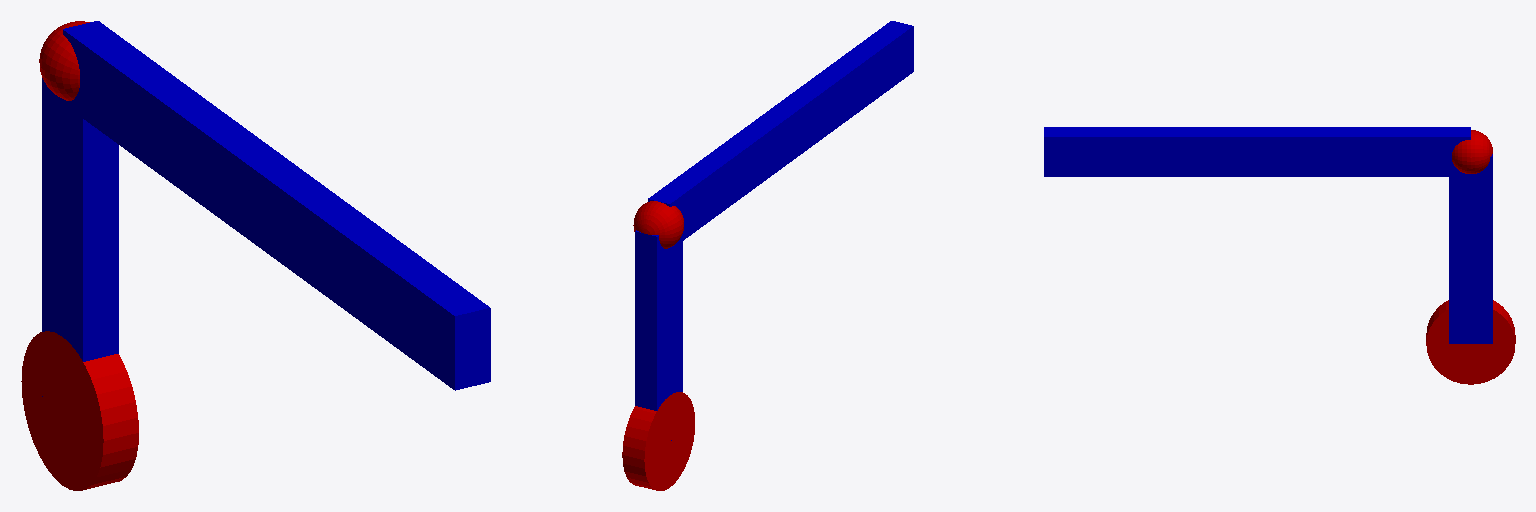
The robot description file, URDF, robot "TwoLinkStruct1228343514":
<?xml version="1.0"?>
<robot  name="TwoLinkStruct1228343514" >
 <material  name="blue" >
  <color  rgba="0 0 0.8 1.0" />
 </material>
 <material  name="red" >
  <color  rgba="0.8 0 0 1.0" />
 </material>
 <link  name="base_link" >
  <visual >
   <origin  rpy="0 1.5707 0"  xyz="0 0 0" />
   <material  name="red" />
   <geometry >
    <cylinder  length="0.05"  radius="0.1" />
   </geometry>
  </visual>
 </link>
 <joint  type="revolute"  name="joint1" >
  <parent  link="base_link" />
  <child  link="link1" />
  <origin  xyz="0 0 0"  rpy="0 0 0" />
  <axis  xyz="1 0 0" />
 </joint>
 <link  name="link1" >
  <inertial >
   <origin  rpy="0 0 0"  xyz="0 0 0.2316301788185809" />
   <mass  value="1.2313152115497141" />
   <inertia  ixy="0.0"  iyy="0.000513048004812381"  izz="0.022277586775591544"  ixz="0.0"  ixx="0.022277586775591544"  iyz="0.0" />
  </inertial>
  <visual >
   <origin  rpy="0 0 0"  xyz="0 0 0.2316301788185809" />
   <material  name="blue" />
   <geometry >
    <box  size="0.05 0.1 0.4632603576371618" />
   </geometry>
  </visual>
 </link>
 <joint  type="fixed"  name="joint-joint-1" >
  <parent  link="link1" />
  <child  link="joint-link-1" />
  <origin  xyz="0 0 0.4632603576371618"  rpy="1.5707 0 0" />
  <axis  xyz="1 0 0" />
 </joint>
 <link  name="joint-link-1" >
  <inertial >
   <origin  rpy="0 0 0"  xyz="0 0 0" />
   <mass  value="3.596272568144898" />
   <inertia  ixy="0"  iyy="0"  izz="0"  ixz="0"  ixx="0"  iyz="0" />
  </inertial>
  <visual >
   <origin  rpy="0 0 0"  xyz="0 0 0" />
   <material  name="red" />
   <geometry >
    <sphere  radius="0.05" />
   </geometry>
  </visual>
 </link>
 <joint  type="revolute"  name="joint2" >
  <parent  link="link1" />
  <child  link="link2" />
  <origin  xyz="0 0 0.4632603576371618"  rpy="1.5707 0 0" />
  <axis  xyz="1 0 0" />
 </joint>
 <link  name="link2" >
  <inertial >
   <origin  rpy="0 0 0"  xyz="0 0 0.4777373607623729" />
   <mass  value="3.6532023910776945" />
   <inertia  ixy="0.0"  iyy="0.000513048004812381"  izz="0.09393210642804707"  ixz="0.0"  ixx="0.09393210642804707"  iyz="0.0" />
  </inertial>
  <visual >
   <origin  rpy="0 0 0"  xyz="0 0 0.4777373607623729" />
   <material  name="blue" />
   <geometry >
    <box  size="0.05 0.1 0.9554747215247458" />
   </geometry>
  </visual>
 </link>
 <joint  type="fixed"  name="eef_joint" >
  <parent  link="link2" />
  <child  link="eef" />
  <origin  xyz="0 0 0.9554747215247458"  rpy="0 0 0" />
 </joint>
 <link  name="eef" >
  <inertial >
   <origin  rpy="0 0 0"  xyz="0 0 0" />
   <mass  value="1" />
   <inertia  ixy="0"  iyy="0"  izz="0"  ixz="0"  ixx="0"  iyz="0" />
  </inertial>
 </link>
 <transmission  name="motor1" >
  <type  xmltext="SimpleTransmission" >
   SimpleTransmission
  </type>
  <actuator  name="motor1" >
   <mechanicalreduction  xmltext="1" >
    1
   </mechanicalreduction>
  </actuator>
  <joint  name="joint1" />
 </transmission>
 <transmission  name="motor2" >
  <type  xmltext="SimpleTransmission" >
   SimpleTransmission
  </type>
  <actuator  name="motor2" >
   <mechanicalreduction  xmltext="1" >
    1
   </mechanicalreduction>
  </actuator>
  <joint  name="joint2" />
 </transmission>
</robot>

<!-- {'carti': array([-0.1 ,  0.14,  0.85]), 'cartd': array([-0.1 ,  0.32,  1.29]), 'tau_mu': 0.5474566876291624, 'b0': 0.6803887686515551, 'Km': 3.1860141840584397, 'k_velocity': 12.190436926419437, 'tau_max_m': 3.509908752581405, 'omega_max_m': 1240.7945720715154, 'gear_ratio': 14.443359045424328, 'Kp': 34.390938245731576, 'Kd': 6.816037782232007, 'm_m': 3.596272568144898, 'l1': 0.4632603576371618, 'l2': 0.9554747215247458, 'k1': 29178.154568498554, 'k2': 167612746.53504074, 'k3': 366448612.09683543}-->

--- Render facts (derived) ---
3 views of the same robot in one strip: view 1: azimuth 30°, elevation 25°; view 2: azimuth 150°, elevation 25°; view 3: azimuth 270°, elevation 25° (orthographic).
Robot: TwoLinkStruct1228343514 — 5 links, 4 joints (2 revolute, 2 fixed); root link base_link; default pose: every joint at zero.
Links seen in each view (by area): view 1: link2, link1, base_link, joint-link-1; view 2: link2, link1, base_link, joint-link-1; view 3: link2, link1, base_link, joint-link-1.
Boxes of the visible links, box(x1,y1,x2,y2) form: link2: box(63, 21, 490, 390); link1: box(42, 78, 118, 396); base_link: box(21, 331, 138, 490); joint-link-1: box(39, 21, 89, 100); link2: box(648, 21, 913, 247); link1: box(635, 230, 682, 440); base_link: box(622, 392, 694, 490); joint-link-1: box(633, 201, 683, 248); link2: box(1044, 127, 1470, 176); link1: box(1449, 154, 1492, 343); base_link: box(1426, 300, 1515, 384); joint-link-1: box(1452, 130, 1492, 173).
Size in the robot's own frame: 0.1 by 1.06 by 0.6134 metres.
Geometry: primitives only (box / cylinder / sphere), no mesh files.
